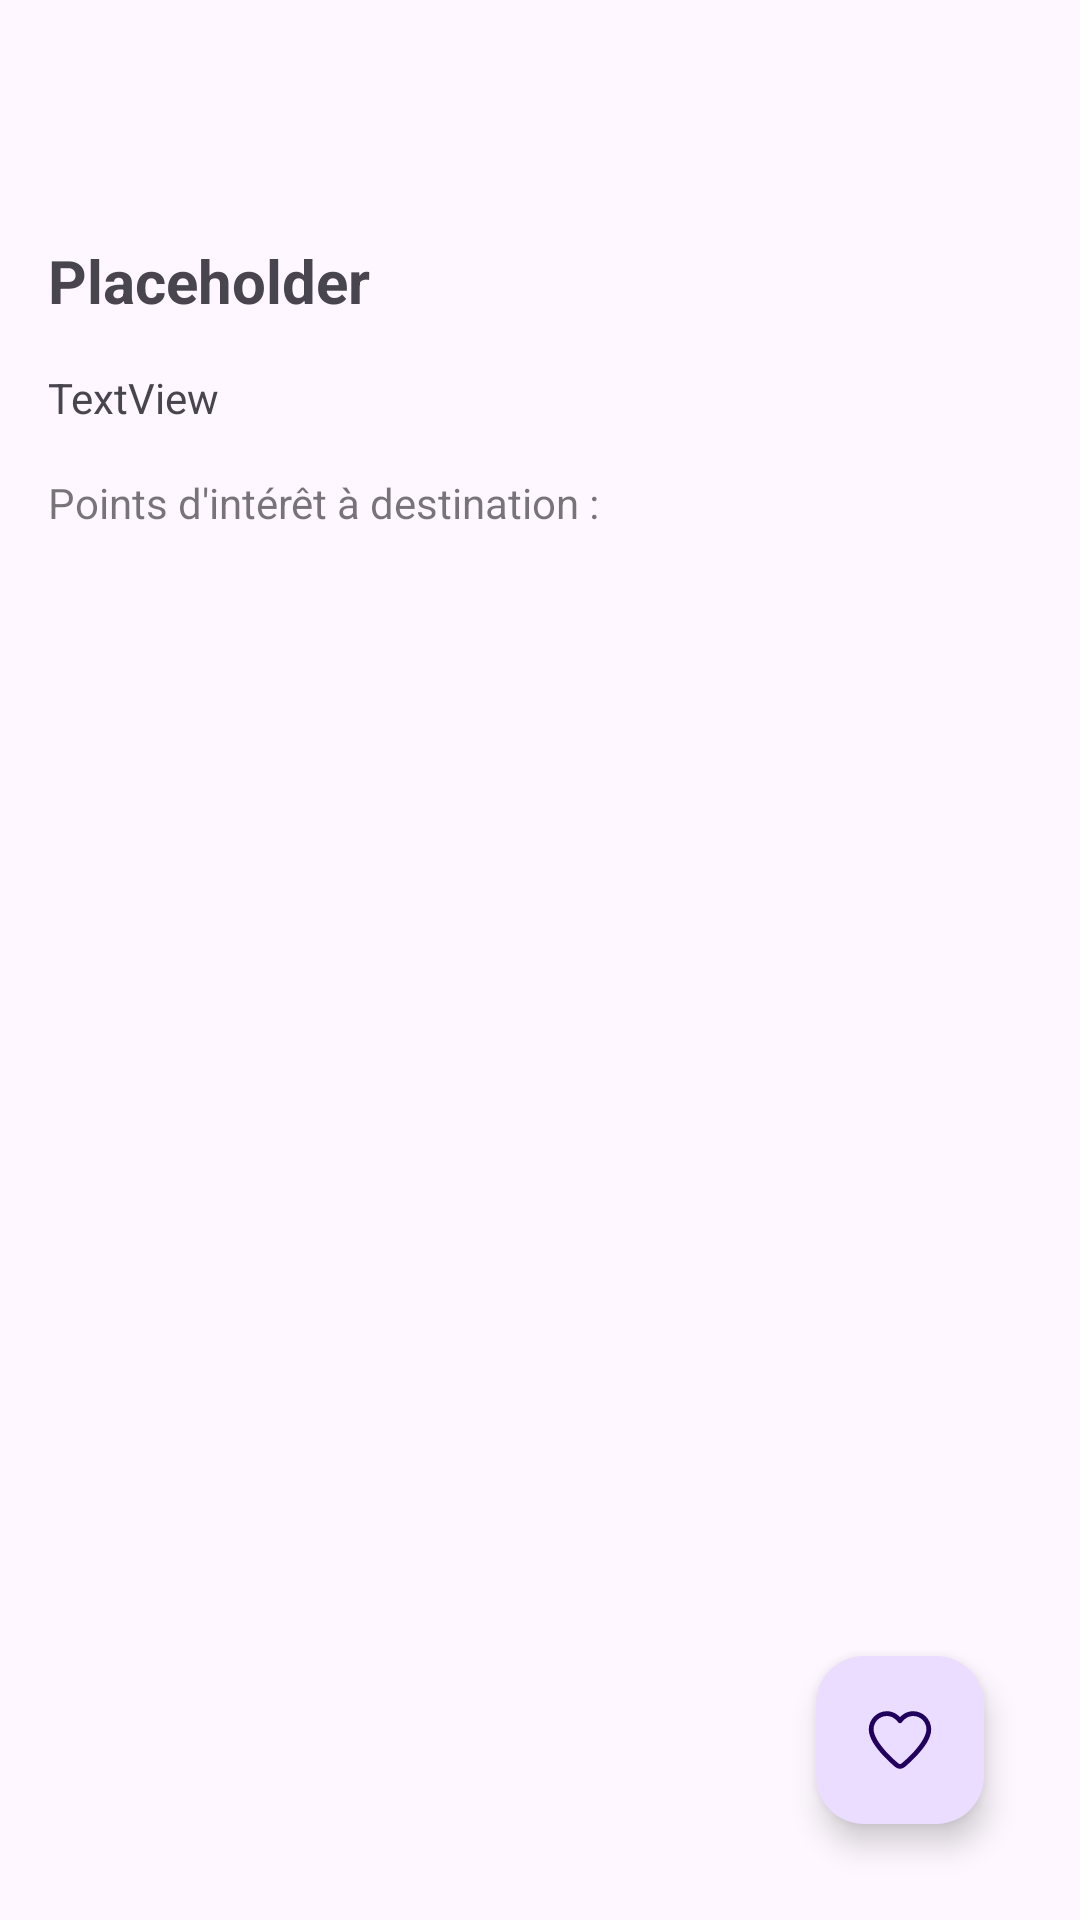

Where icons sit on this 1080 × 1920 app screen, as (x1, y1, x2, y2):
custom heart: (816, 1656, 984, 1824)
